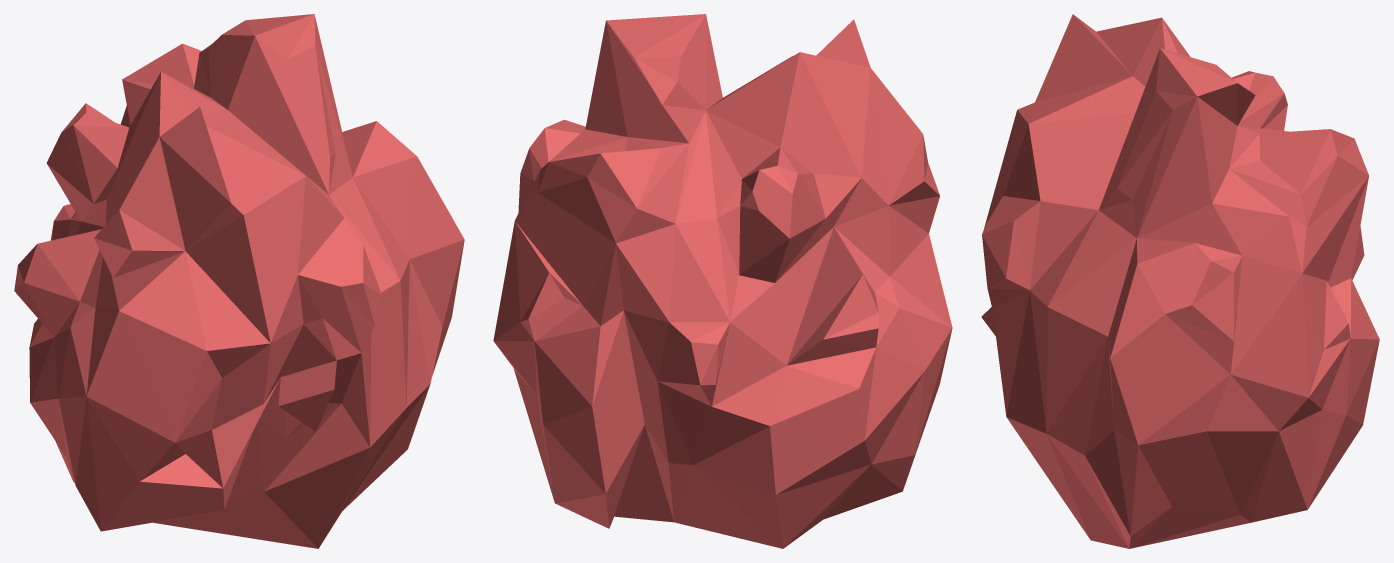
File: ore02.fbx
3 views of the same model, side by side, from view 1: azimuth 30°, elevation 25°; view 2: azimuth 150°, elevation 25°; view 3: azimuth 270°, elevation 25° (orthographic). The views are drawn at different scales.
Parts seen in each view (by area): view 1: cydium; view 2: cydium; view 3: cydium.
Part boxes in pixels (left/top/right/bottom): cydium: left=14, top=14, right=464, bottom=548; cydium: left=493, top=14, right=952, bottom=548; cydium: left=981, top=14, right=1379, bottom=548.
Bounding box in the file's own units: 2.65 × 2.41 × 3.19.
